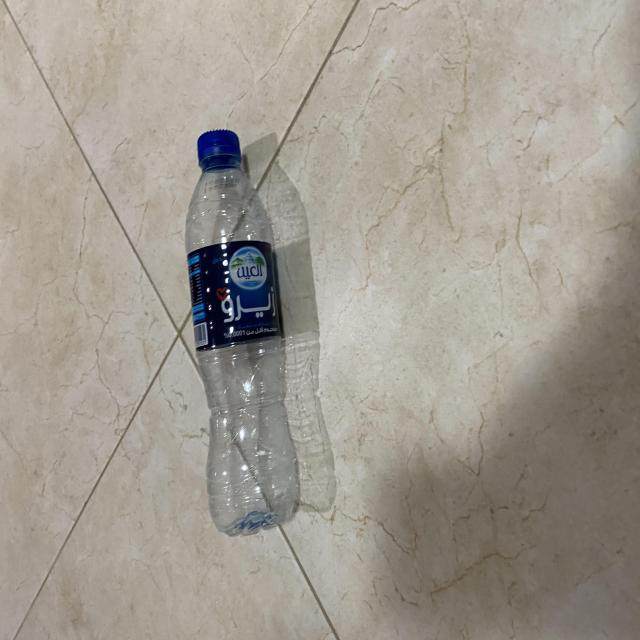plastic: (184, 127, 302, 535)
